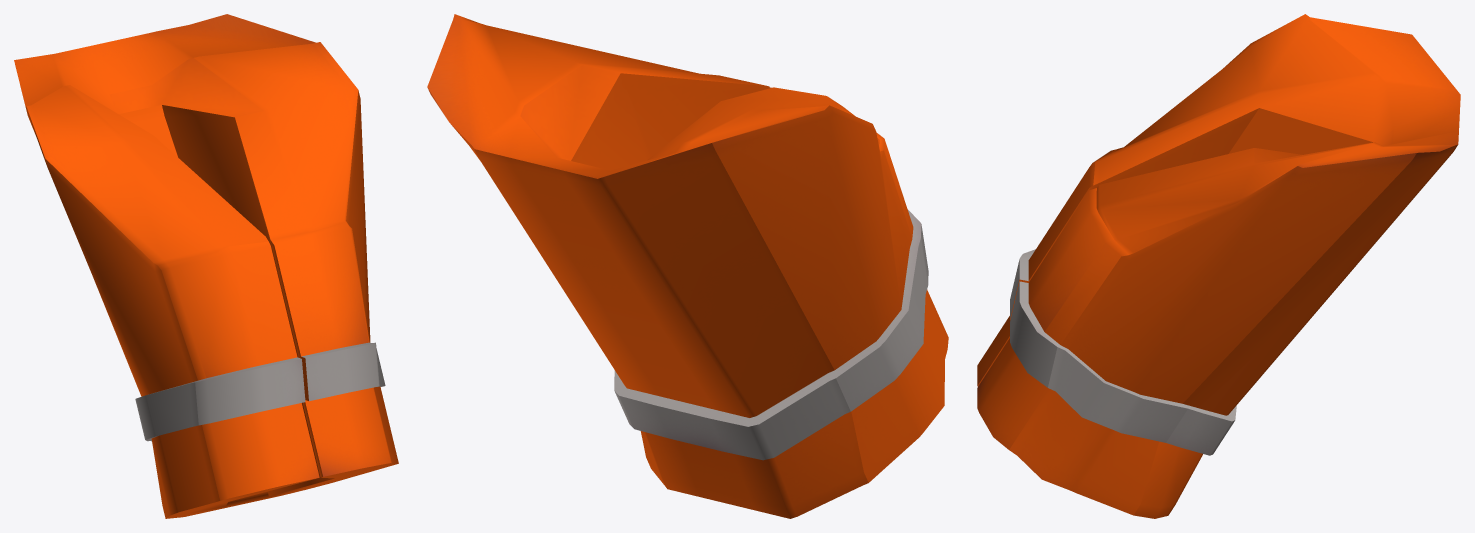
File: 1LifeJacket.fbx
3 renders of one model, left to right at view 1: azimuth 30°, elevation 25°; view 2: azimuth 150°, elevation 25°; view 3: azimuth 270°, elevation 25°, orthographic. The views are drawn at different scales.
Visible parts, largest first — view 1: LifeJacket; view 2: LifeJacket; view 3: LifeJacket.
Part boxes in pixels (bbox=[...]): LifeJacket: bbox=[14, 14, 398, 518]; LifeJacket: bbox=[427, 14, 948, 518]; LifeJacket: bbox=[977, 14, 1460, 518].
Size of the model in its own units: 0.7324 by 0.8827 by 0.9546.
